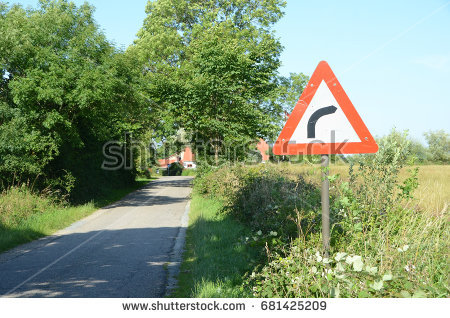Bend_to_right: (270, 58, 381, 156)
